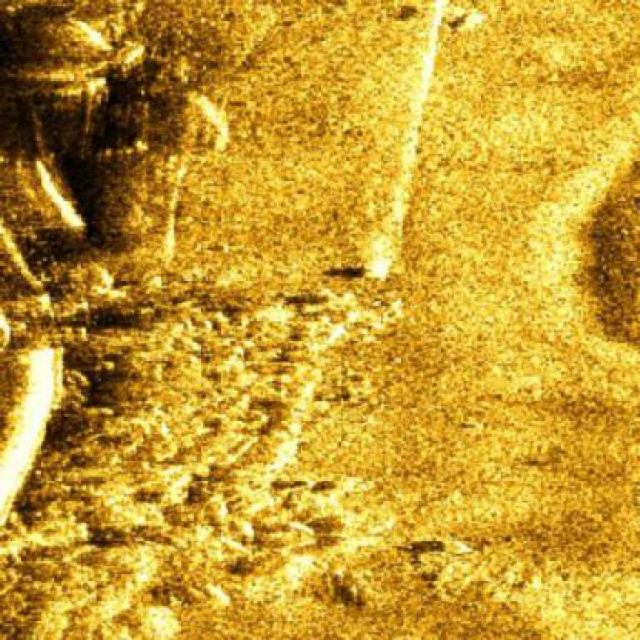bedrock group: (0, 276, 366, 639)
